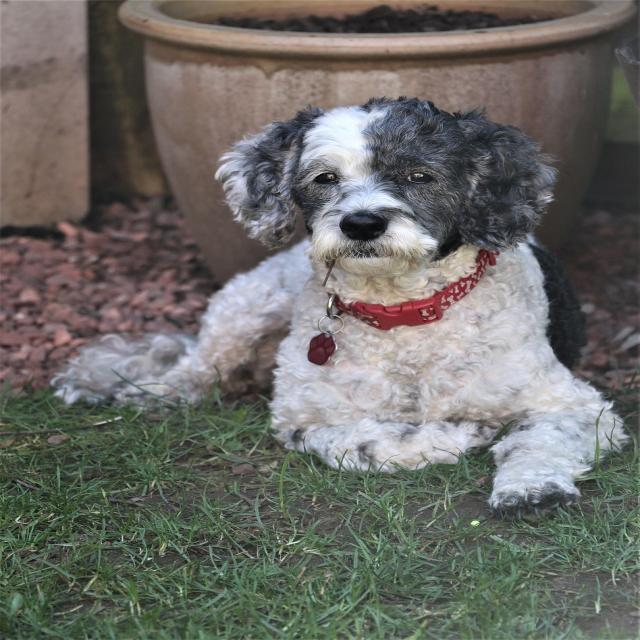dog: (150, 101, 622, 514)
